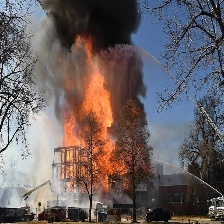fire: (62, 40, 124, 195)
smoke: (4, 1, 146, 159)
